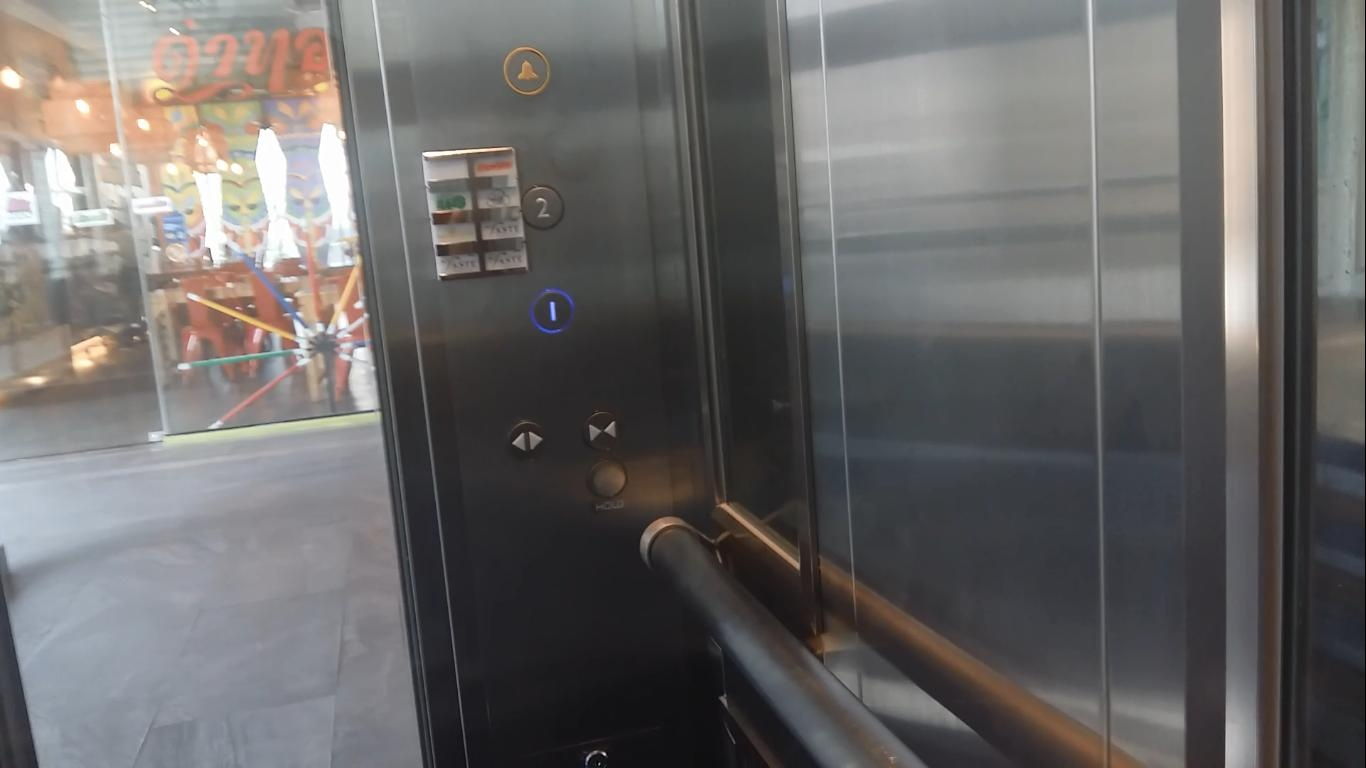1: (526, 287, 576, 338)
2: (520, 182, 566, 232)
alarm: (500, 45, 551, 99)
close: (579, 411, 620, 452)
empty: (585, 457, 626, 498)
open: (505, 419, 548, 464)
